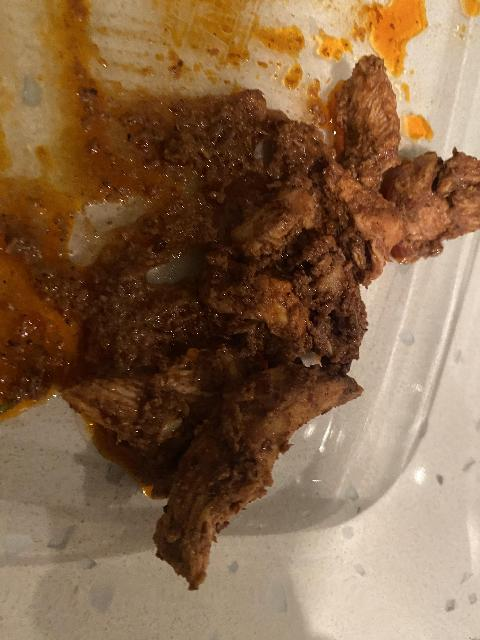Organik: (141, 351, 349, 589), (227, 132, 349, 383), (71, 354, 230, 451), (357, 159, 480, 243), (344, 70, 403, 189)
